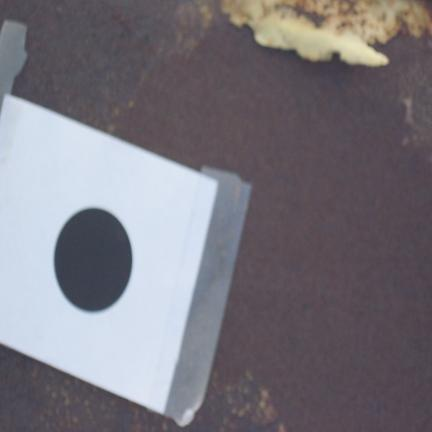karat: (217, 0, 431, 71)
